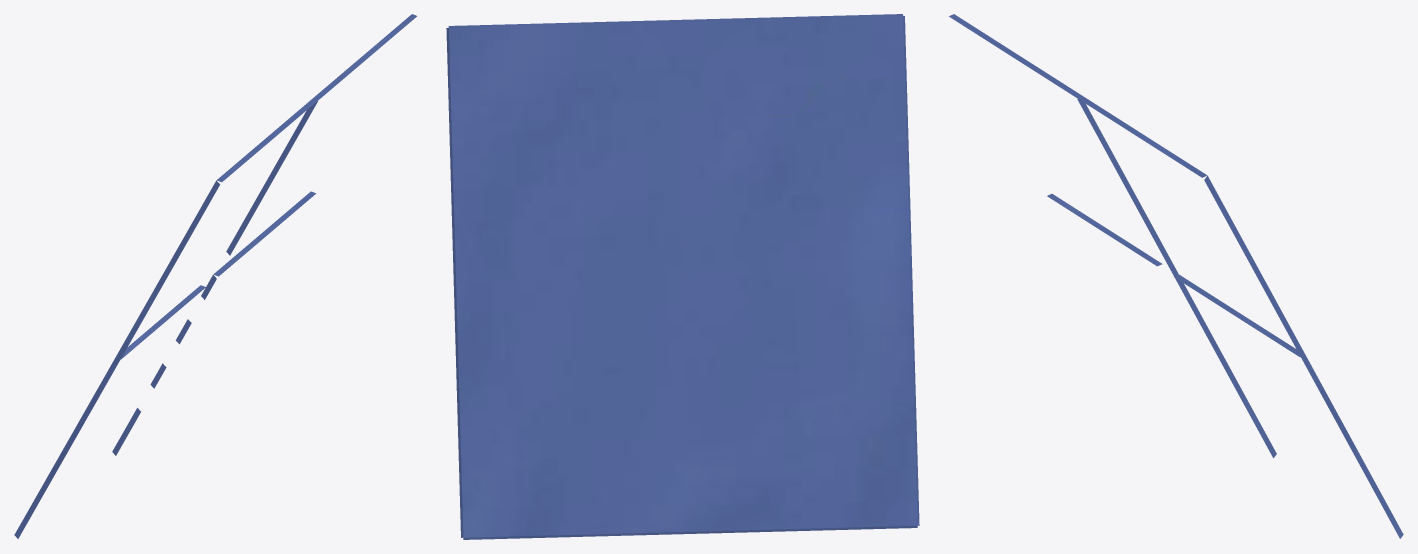
The picture shows the model from 3 angles, left to right: view 1: azimuth 30°, elevation 25°; view 2: azimuth 150°, elevation 25°; view 3: azimuth 270°, elevation 25°; orthographic projection. The views are drawn at different scales.
Bounding box in the file's own units: 39420 × 35211 × 34727.
Materials: 1 (1 with a texture image).
